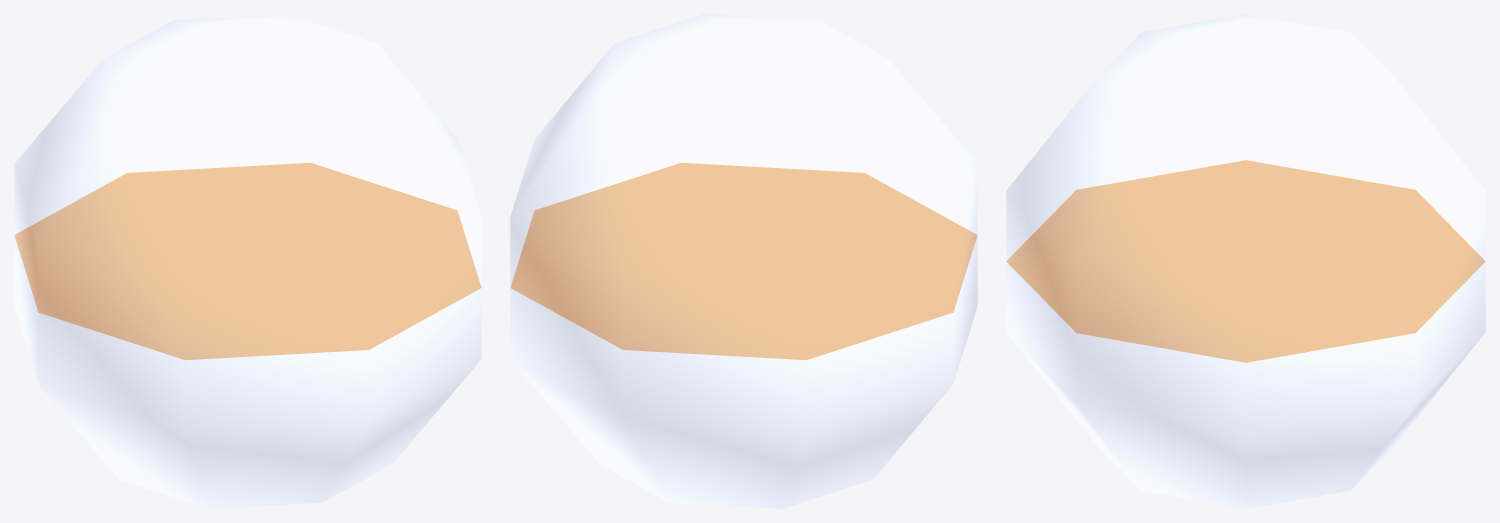
File: marble-center-low.glb
The picture shows the model from 3 angles, left to right: view 1: azimuth 30°, elevation 25°; view 2: azimuth 150°, elevation 25°; view 3: azimuth 270°, elevation 25°; orthographic projection.
Parts seen in each view (by area): view 1: (%ignore), marble-center-low; view 2: (%ignore), marble-center-low; view 3: (%ignore), marble-center-low.
Boxes of the visible parts, x1=… form: (%ignore): x1=14, y1=14, x2=481, y2=508; marble-center-low: x1=14, y1=163, x2=481, y2=359; (%ignore): x1=510, y1=14, x2=977, y2=508; marble-center-low: x1=510, y1=163, x2=977, y2=359; (%ignore): x1=1006, y1=14, x2=1485, y2=508; marble-center-low: x1=1006, y1=160, x2=1485, y2=362.
Size of the model in its own units: 0.3804 by 0.4 by 0.3804.
